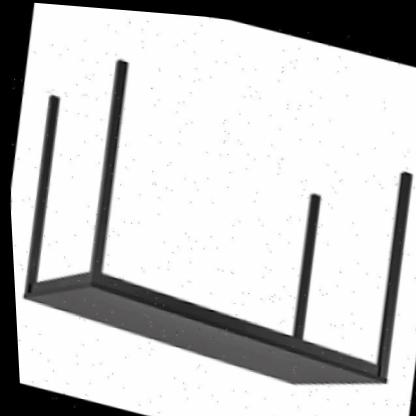Table: (1, 29, 416, 415)
